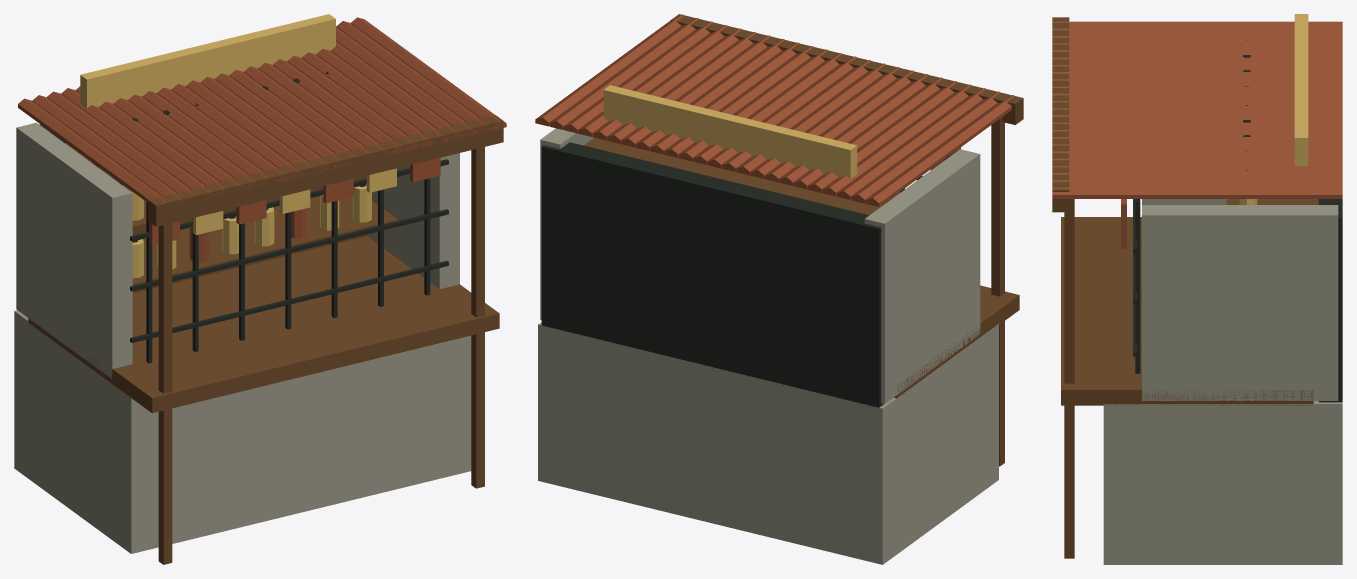
Rendered from env_sari_sari_store.obj.
3 renders of one model, left to right at view 1: azimuth 30°, elevation 25°; view 2: azimuth 150°, elevation 25°; view 3: azimuth 270°, elevation 25°, orthographic. The views are drawn at different scales.
Parts seen in each view (by area): view 1: SariSariStore; view 2: SariSariStore; view 3: SariSariStore.
Boxes of the visible parts, left/top/right/bottom form: SariSariStore: left=14, top=14, right=506, bottom=564; SariSariStore: left=535, top=14, right=1023, bottom=564; SariSariStore: left=1052, top=14, right=1342, bottom=564.
Size of the model in its own units: 2.42 by 2.6 by 1.7.
